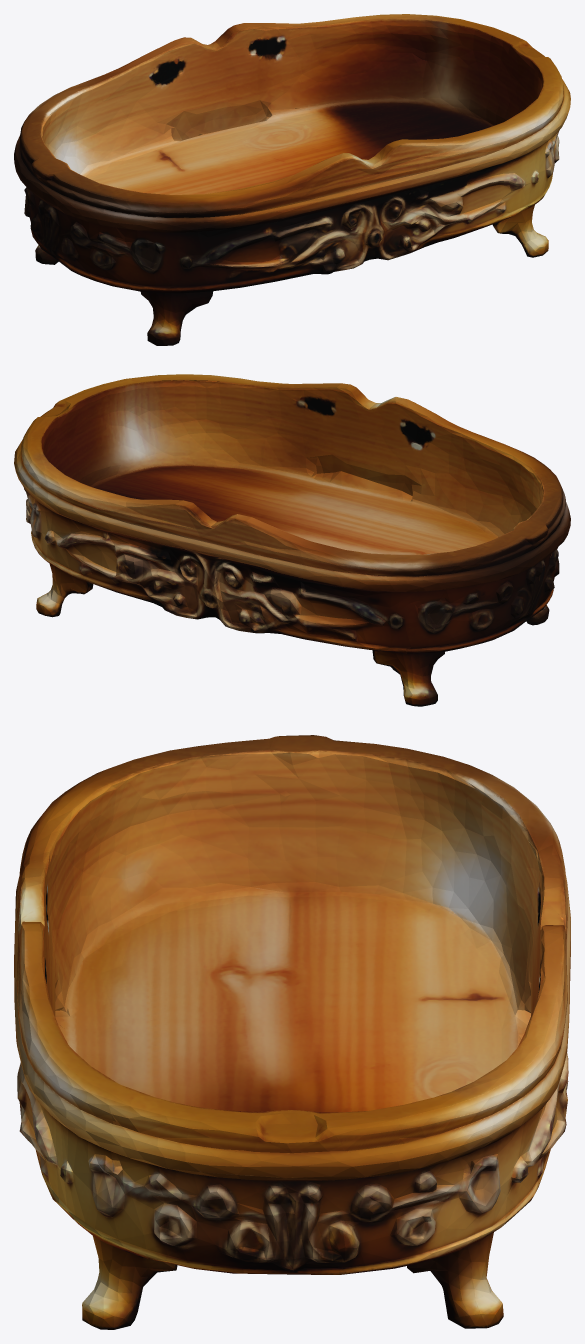
The model's file is wooden-bath-caddy-vintage.jpeg.glb.
3 renders of one model, top to bottom at view 1: azimuth 30°, elevation 25°; view 2: azimuth 150°, elevation 25°; view 3: azimuth 270°, elevation 25°, orthographic. The views are drawn at different scales.
Visible parts, largest first — view 1: world; view 2: world; view 3: world.
Part boxes in pixels (x1,y1,x2,y2): world: [14, 14, 570, 345]; world: [14, 374, 570, 706]; world: [14, 735, 570, 1329].
Bounding box in the file's own units: 1 × 0.3092 × 0.5825.
Materials: 1 (1 with a texture image).
